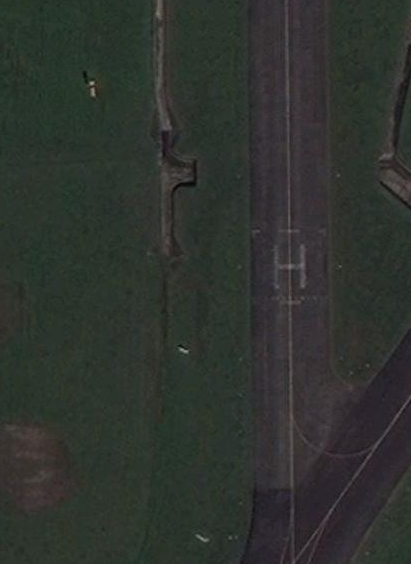heliport: (268, 239, 310, 293)
